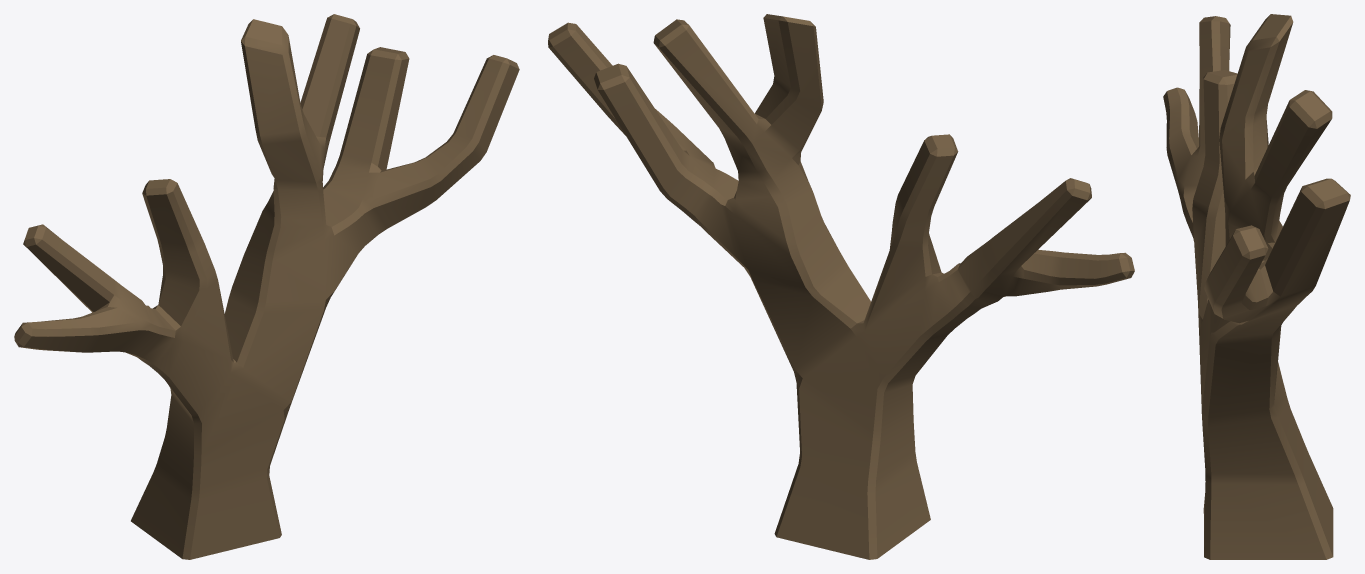
File: quaternius-cube-world-dead-tree-3.glb
The picture shows the model from 3 angles, left to right: view 1: azimuth 30°, elevation 25°; view 2: azimuth 150°, elevation 25°; view 3: azimuth 270°, elevation 25°; orthographic projection. The views are drawn at different scales.
Visible parts, largest first — view 1: DeadTree_3; view 2: DeadTree_3; view 3: DeadTree_3.
Boxes of the visible parts, x1,y1,x2,y2 form: DeadTree_3: (14, 14, 519, 559); DeadTree_3: (548, 14, 1134, 559); DeadTree_3: (1163, 14, 1350, 559).
Bounding box in the file's own units: 5.72 × 4.99 × 1.55.
1 material, 1 textured.
